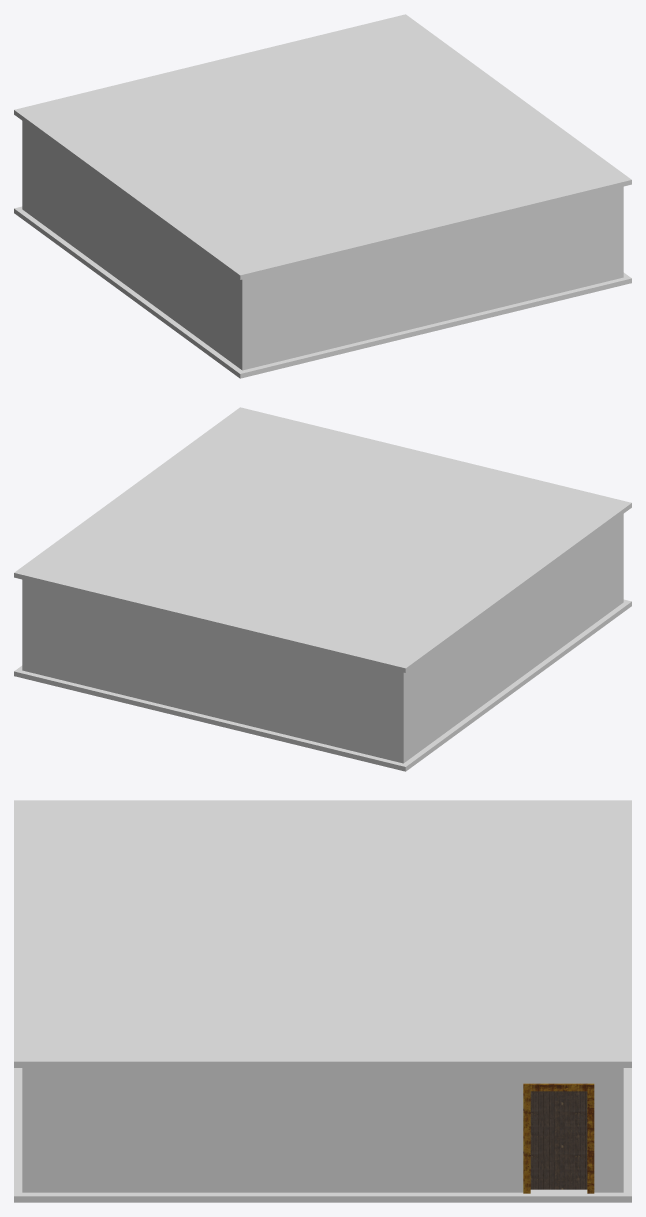
The model's file is Maze_5x5_E.fbx.
The picture shows the model from 3 angles, top to bottom: view 1: azimuth 30°, elevation 25°; view 2: azimuth 150°, elevation 25°; view 3: azimuth 270°, elevation 25°; orthographic projection. The views are drawn at different scales.
Visible parts, largest first — view 1: Maze_Roof, Maze_Walls, Maze_Floor; view 2: Maze_Roof, Maze_Walls, Maze_Floor; view 3: Maze_Roof, Maze_Walls, Maze_Floor, Door_Leaf, Door_Frame.
Part boxes in pixels (bbox=[...]): Maze_Roof: bbox=[14, 14, 631, 279]; Maze_Walls: bbox=[22, 121, 623, 370]; Maze_Floor: bbox=[14, 206, 631, 378]; Maze_Roof: bbox=[14, 407, 631, 672]; Maze_Walls: bbox=[22, 514, 623, 763]; Maze_Floor: bbox=[14, 599, 631, 771]; Maze_Roof: bbox=[14, 800, 631, 1067]; Maze_Walls: bbox=[22, 1068, 623, 1192]; Maze_Floor: bbox=[14, 1068, 631, 1202]; Door_Leaf: bbox=[530, 1091, 587, 1189]; Door_Frame: bbox=[523, 1083, 594, 1193].
Bounding box in the file's own units: 13.1 × 3.3 × 13.1.
5 materials, 2 textured.
